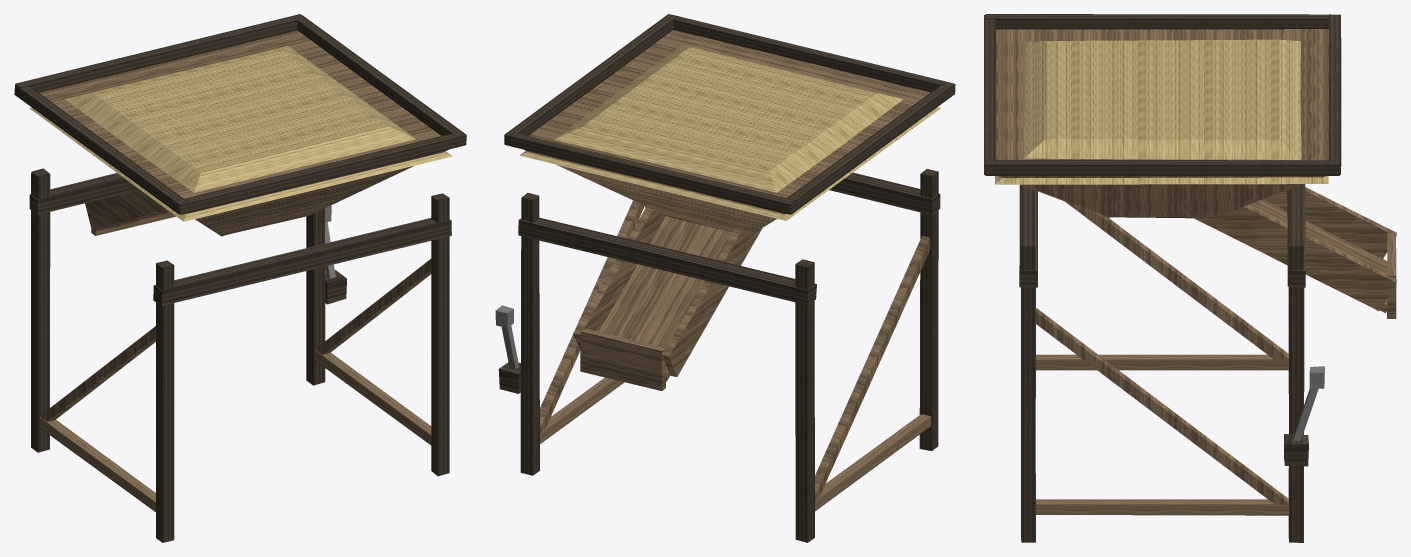
File: field_bale_chute.glb
3 renders of one model, left to right at view 1: azimuth 30°, elevation 25°; view 2: azimuth 150°, elevation 25°; view 3: azimuth 270°, elevation 25°, orthographic. The views are drawn at different scales.
Visible parts, largest first — view 1: FieldBaleChute, HayFill; view 2: FieldBaleChute, HayFill, Gate, Lever; view 3: FieldBaleChute, HayFill, Lever, Gate.
Part boxes in pixels (x1=…): FieldBaleChute: x1=14, y1=14, x2=466, y2=542; HayFill: x1=29, y1=46, x2=452, y2=221; FieldBaleChute: x1=498, y1=14, x2=955, y2=542; HayFill: x1=519, y1=45, x2=940, y2=220; Gate: x1=580, y1=328, x2=665, y2=390; Lever: x1=495, y1=305, x2=518, y2=369; FieldBaleChute: x1=984, y1=14, x2=1396, y2=542; HayFill: x1=995, y1=39, x2=1328, y2=184; Lever: x1=1293, y1=366, x2=1324, y2=440; Gate: x1=1387, y1=233, x2=1396, y2=318.
Size of the model in its own units: 3.61 by 3.93 by 3.88.
4 materials, 4 textured.
